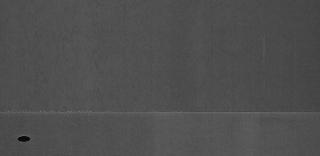punching hole: (14, 133, 32, 143)
welding line: (2, 109, 320, 117)
